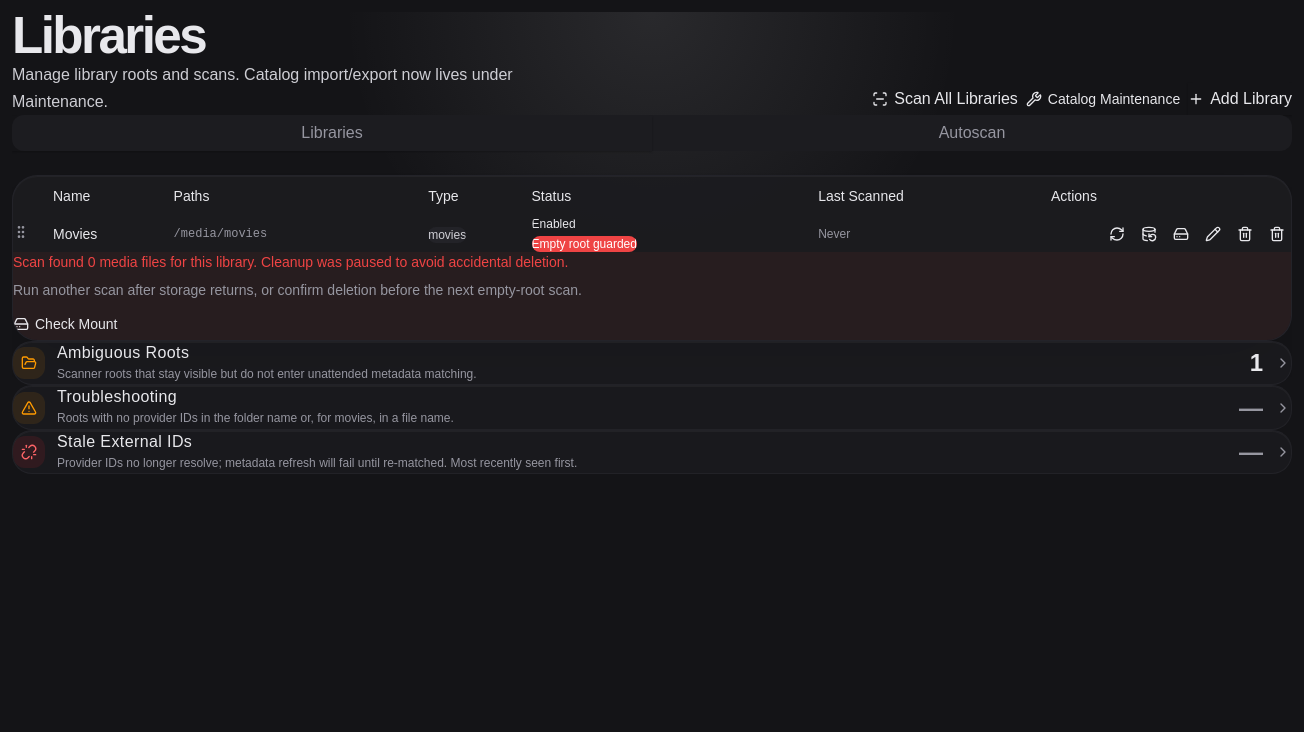
Test case: AdminLibraries › keeps loaded Ambiguous Roots visible when a later page fails
Click the button "Ambiguous Roots". click: coordinates (29, 363)
box: [13,342,1291,384]
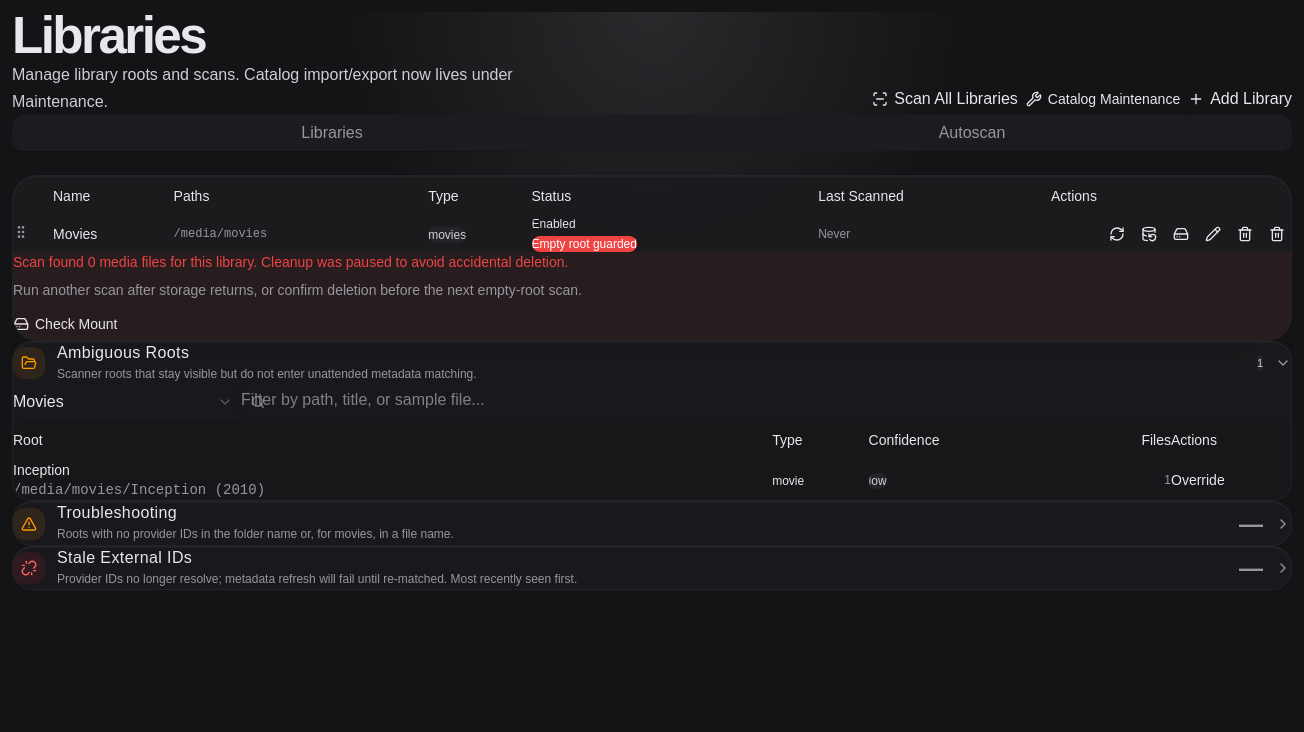
Result: the text "/media/movies/Inception (2010)" is shown at [13,482,265,498]
